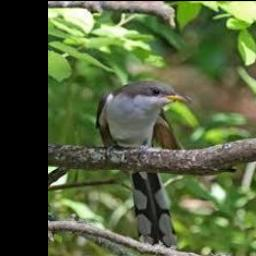Cuckoo: (97, 78, 192, 246)
